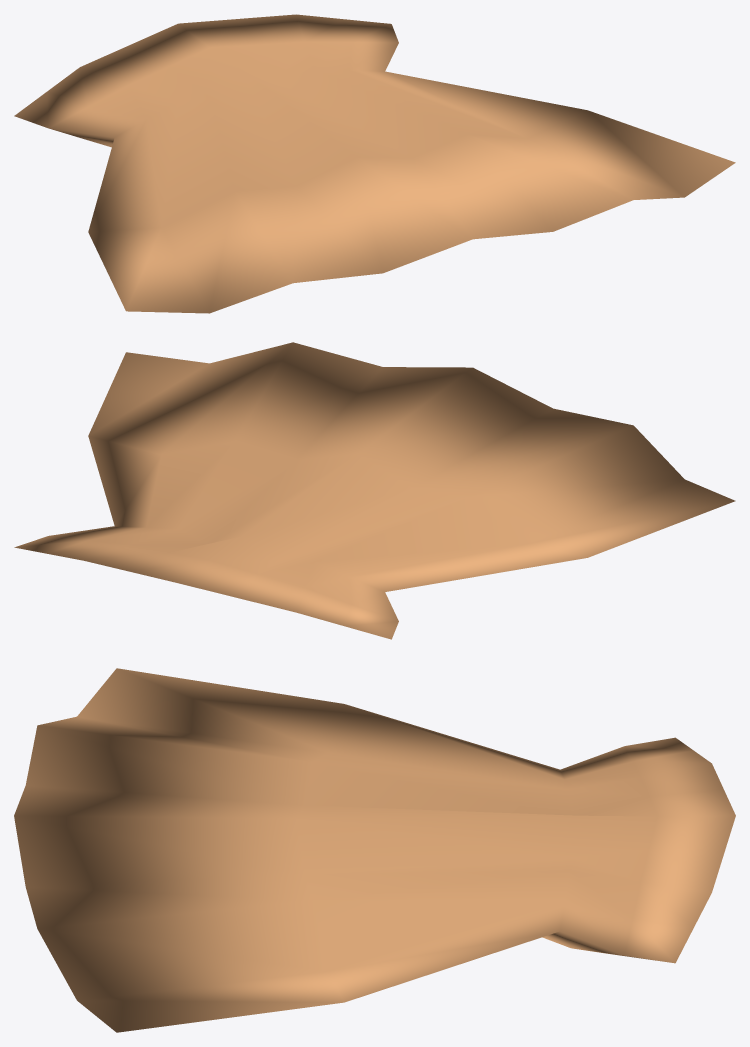
Rendered from CoquillageBeige.fbx.
The picture shows the model from 3 angles, top to bottom: view 1: azimuth 30°, elevation 25°; view 2: azimuth 150°, elevation 25°; view 3: azimuth 270°, elevation 25°; orthographic projection. The views are drawn at different scales.
Parts seen in each view (by area): view 1: CoquillageBeige_LOD0; view 2: CoquillageBeige_LOD0; view 3: CoquillageBeige_LOD0.
Boxes of the visible parts, x1=… form: CoquillageBeige_LOD0: x1=14, y1=14, x2=735, y2=313; CoquillageBeige_LOD0: x1=14, y1=342, x2=735, y2=639; CoquillageBeige_LOD0: x1=14, y1=668, x2=735, y2=1032.
Bounding box in the file's own units: 89.1 × 7.42 × 74.57.
